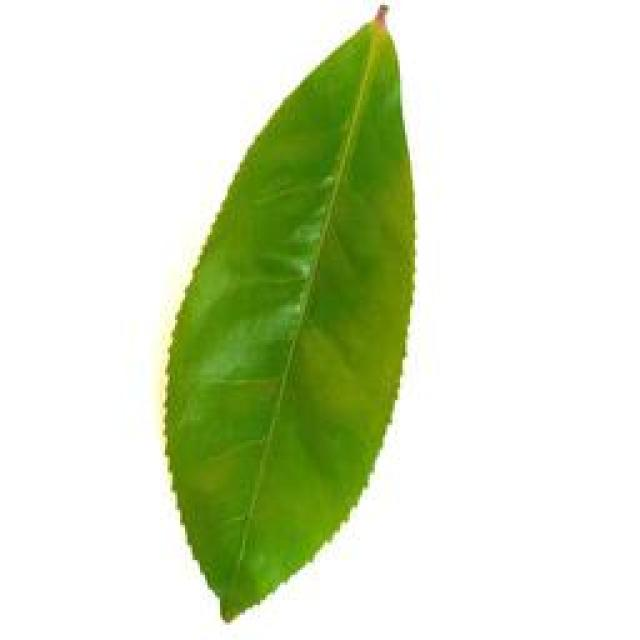Healthy: (143, 3, 446, 624)
